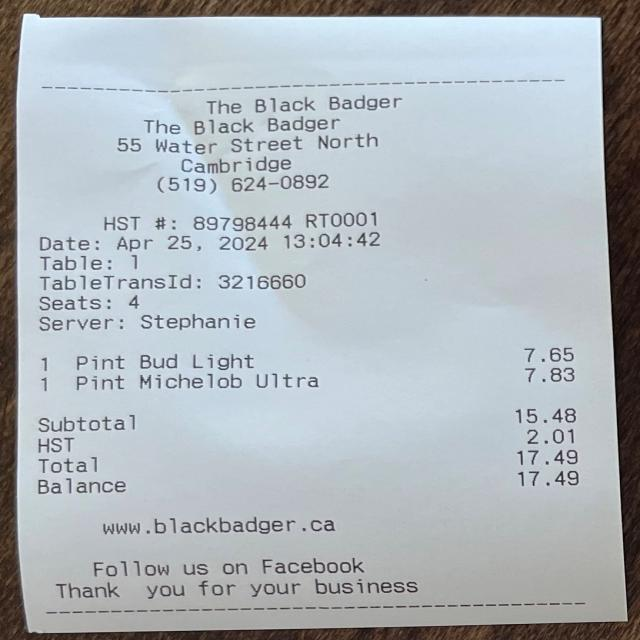item: (66, 344, 596, 374), (64, 365, 596, 394)
store_name: (197, 89, 413, 119)
total_amount: (26, 446, 598, 478)
transaction_date: (109, 231, 278, 257)
